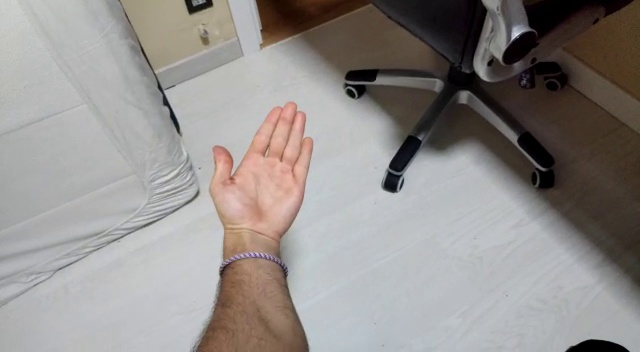Palm: (205, 98, 314, 229)
